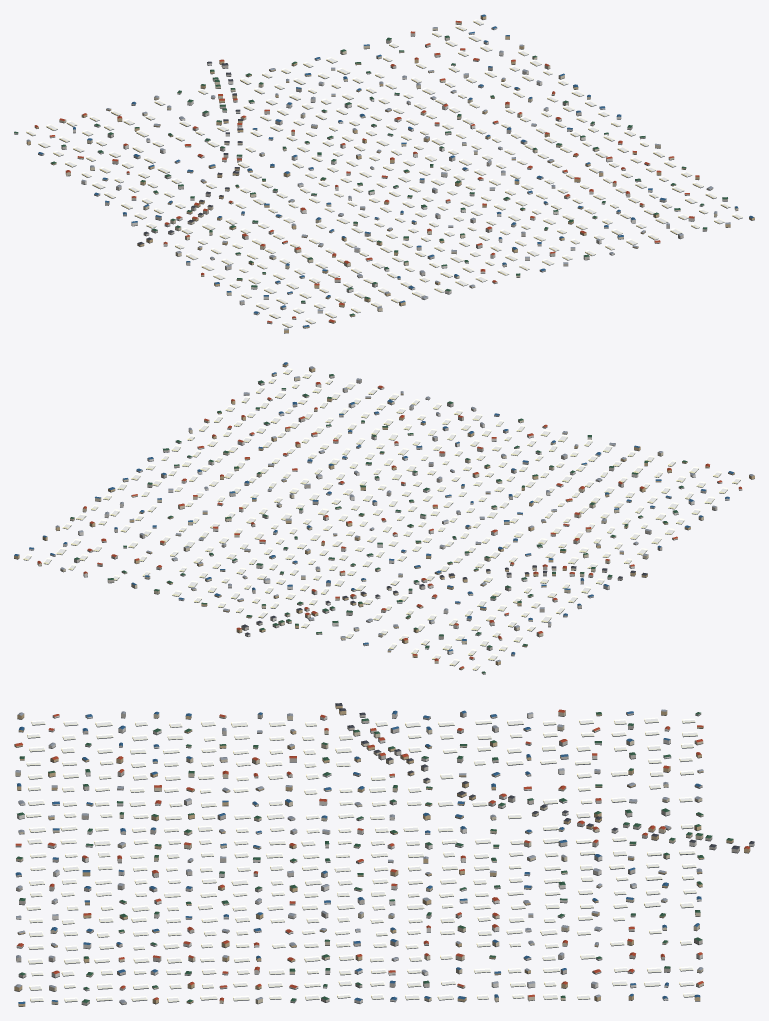
The model's file is buildings_T_W05_S02.glb.
3 views of the same model, one above another, from view 1: azimuth 30°, elevation 25°; view 2: azimuth 150°, elevation 25°; view 3: azimuth 270°, elevation 25° (orthographic). The views are drawn at different scales.
Parts seen in each view (by area): view 1: T_W05_S02_roofs_agri_greenhouse_arch, T_W05_S02_slope_seating_foundations, T_W05_S02_walls_wall_pastel_sand_gray, T_W05_S02_walls_wall_french_ochre_villa, T_W05_S02_walls_wall_dalat_cream_stucco, T_W05_S02_walls_wall_modern_warm_white, T_W05_S02_roofs_roof_pine_green_hip, T_W05_S02_roofs_roof_terracotta_gable, T_W05_S02_roofs_roof_highland_blue_gable, T_W05_S02_roofs_roof_zinc_silver_gable; view 2: T_W05_S02_roofs_agri_greenhouse_arch, T_W05_S02_slope_seating_foundations, T_W05_S02_walls_wall_pastel_sand_gray, T_W05_S02_walls_wall_dalat_cream_stucco, T_W05_S02_walls_wall_french_ochre_villa, T_W05_S02_walls_wall_modern_warm_white, T_W05_S02_roofs_roof_pine_green_hip, T_W05_S02_roofs_roof_highland_blue_gable, T_W05_S02_roofs_roof_terracotta_gable, T_W05_S02_roofs_roof_zinc_silver_gable; view 3: T_W05_S02_roofs_agri_greenhouse_arch, T_W05_S02_slope_seating_foundations, T_W05_S02_walls_wall_pastel_sand_gray, T_W05_S02_walls_wall_french_ochre_villa, T_W05_S02_walls_wall_dalat_cream_stucco, T_W05_S02_walls_wall_modern_warm_white, T_W05_S02_roofs_roof_pine_green_hip, T_W05_S02_roofs_roof_highland_blue_gable, T_W05_S02_roofs_roof_terracotta_gable, T_W05_S02_roofs_roof_zinc_silver_gable, T_W05_S02_roofs_roof_slate_French_villa_hip.
Boxes of the visible parts, left/top/right/bottom form: T_W05_S02_roofs_agri_greenhouse_arch: left=26, top=19, right=742, bottom=327; T_W05_S02_slope_seating_foundations: left=14, top=19, right=754, bottom=333; T_W05_S02_walls_wall_pastel_sand_gray: left=14, top=36, right=727, bottom=309; T_W05_S02_walls_wall_french_ochre_villa: left=26, top=15, right=754, bottom=332; T_W05_S02_walls_wall_dalat_cream_stucco: left=59, top=21, right=738, bottom=311; T_W05_S02_walls_wall_modern_warm_white: left=49, top=27, right=704, bottom=323; T_W05_S02_roofs_roof_pine_green_hip: left=14, top=35, right=727, bottom=315; T_W05_S02_roofs_roof_terracotta_gable: left=34, top=20, right=699, bottom=322; T_W05_S02_roofs_roof_highland_blue_gable: left=38, top=14, right=754, bottom=327; T_W05_S02_roofs_roof_zinc_silver_gable: left=26, top=27, right=730, bottom=330; T_W05_S02_roofs_agri_greenhouse_arch: left=23, top=368, right=740, bottom=670; T_W05_S02_slope_seating_foundations: left=14, top=365, right=754, bottom=674; T_W05_S02_walls_wall_pastel_sand_gray: left=74, top=375, right=717, bottom=674; T_W05_S02_walls_wall_dalat_cream_stucco: left=37, top=373, right=703, bottom=663; T_W05_S02_walls_wall_french_ochre_villa: left=14, top=363, right=754, bottom=669; T_W05_S02_walls_wall_modern_warm_white: left=29, top=383, right=742, bottom=659; T_W05_S02_roofs_roof_pine_green_hip: left=70, top=374, right=687, bottom=673; T_W05_S02_roofs_roof_highland_blue_gable: left=14, top=362, right=733, bottom=654; T_W05_S02_roofs_roof_terracotta_gable: left=37, top=382, right=741, bottom=668; T_W05_S02_roofs_roof_zinc_silver_gable: left=55, top=366, right=754, bottom=661; T_W05_S02_roofs_agri_greenhouse_arch: left=26, top=717, right=697, bottom=1001; T_W05_S02_slope_seating_foundations: left=14, top=707, right=754, bottom=1006; T_W05_S02_walls_wall_pastel_sand_gray: left=15, top=712, right=739, bottom=1005; T_W05_S02_walls_wall_french_ochre_villa: left=14, top=705, right=750, bottom=1006; T_W05_S02_walls_wall_dalat_cream_stucco: left=15, top=710, right=703, bottom=1004; T_W05_S02_walls_wall_modern_warm_white: left=16, top=712, right=754, bottom=1003; T_W05_S02_roofs_roof_pine_green_hip: left=16, top=712, right=733, bottom=1002; T_W05_S02_roofs_roof_highland_blue_gable: left=15, top=710, right=701, bottom=1003; T_W05_S02_roofs_roof_terracotta_gable: left=15, top=709, right=749, bottom=1000; T_W05_S02_roofs_roof_zinc_silver_gable: left=14, top=709, right=703, bottom=1003; T_W05_S02_roofs_roof_slate_French_villa_hip: left=335, top=703, right=754, bottom=849.
Bounding box in the file's own units: 1790 × 29.87 × 1856.
